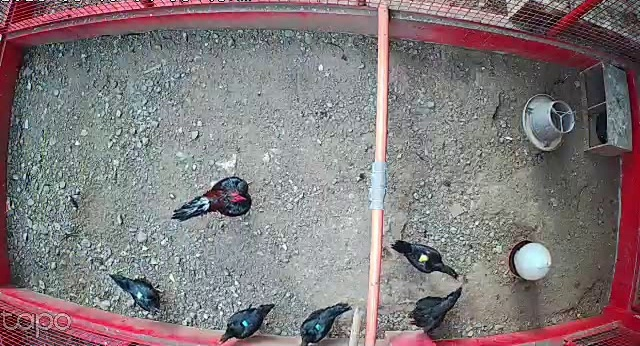Chicken: (108, 269, 172, 321), (405, 285, 467, 335), (391, 237, 461, 280), (296, 297, 352, 346), (217, 300, 276, 342)
Rooster: (171, 173, 256, 225)
Saddle_Color_Blue: (241, 319, 248, 327)
Saddle_Color_Yellow: (419, 251, 431, 265)
